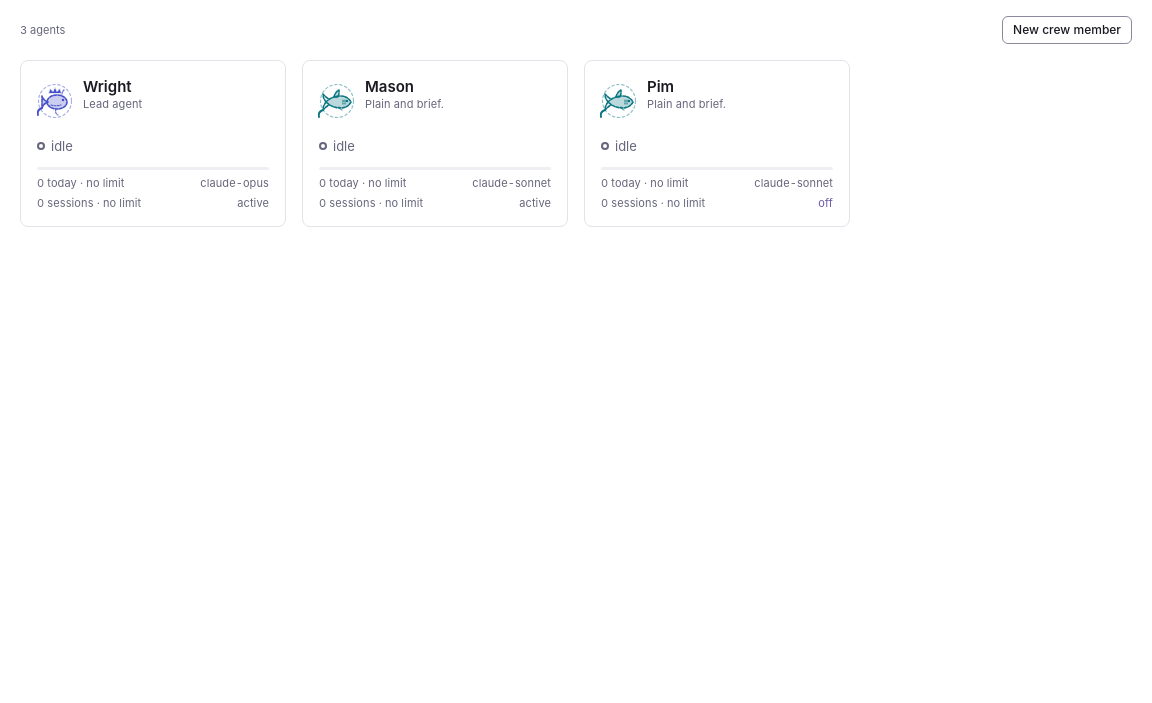
Test: the Connectors row › an agent whose connectors the roster did not report reads grant unknown, with neither Grant nor Revoke
The image size is (1152, 703).
Click the button with test id "team-card" that starts with "Mason" at (337, 101), box [302,60,568,227]
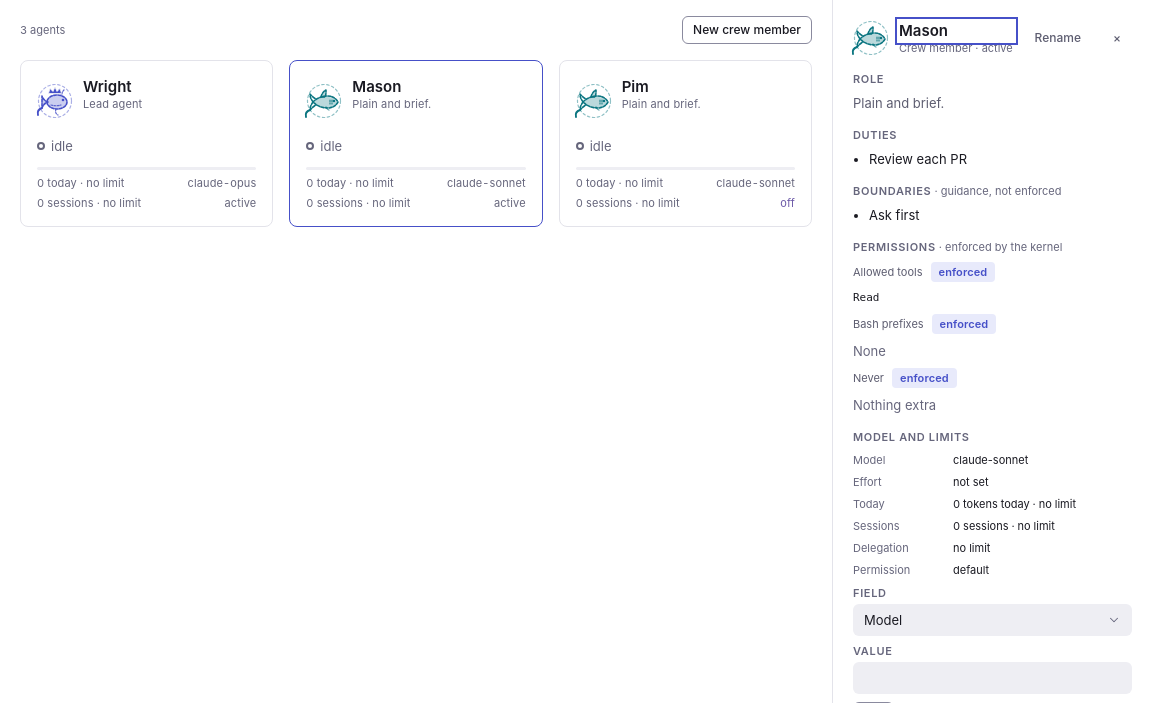
Click the button with test id "team-card" that starts with "Pim" at (685, 144), box [559,60,812,227]
(page scrolled)
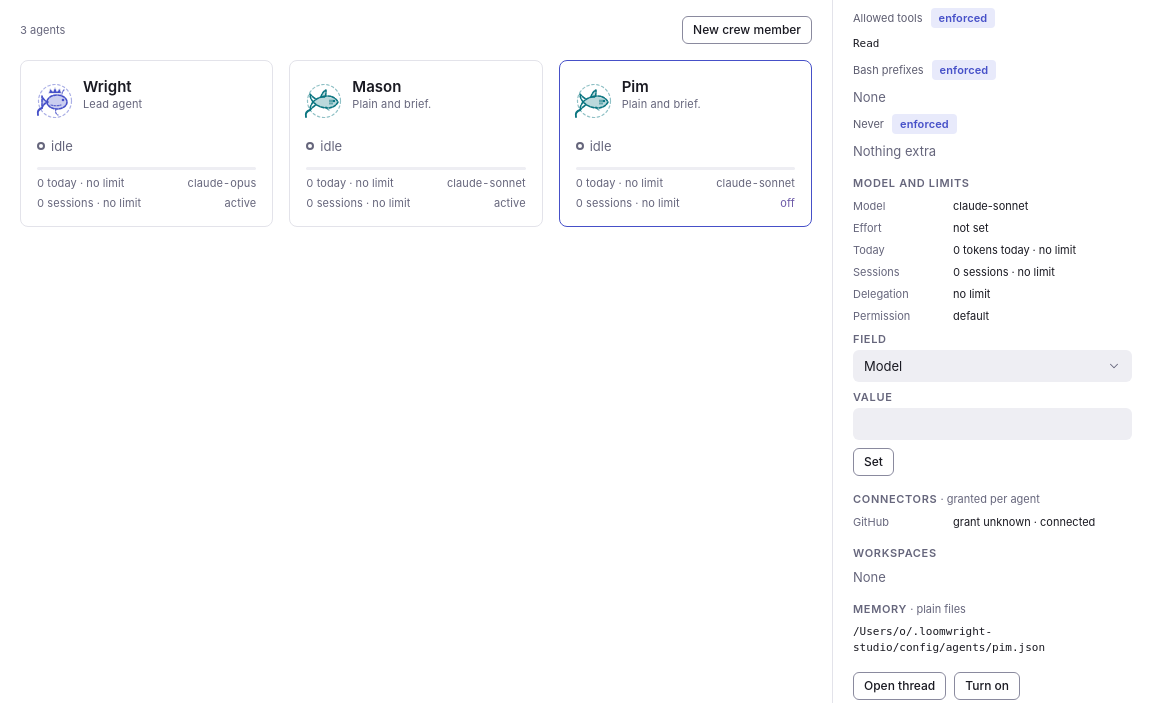
expect the text with test id "team-connector-grant" reads "grant unknown": met, box [953,515,1031,529]
